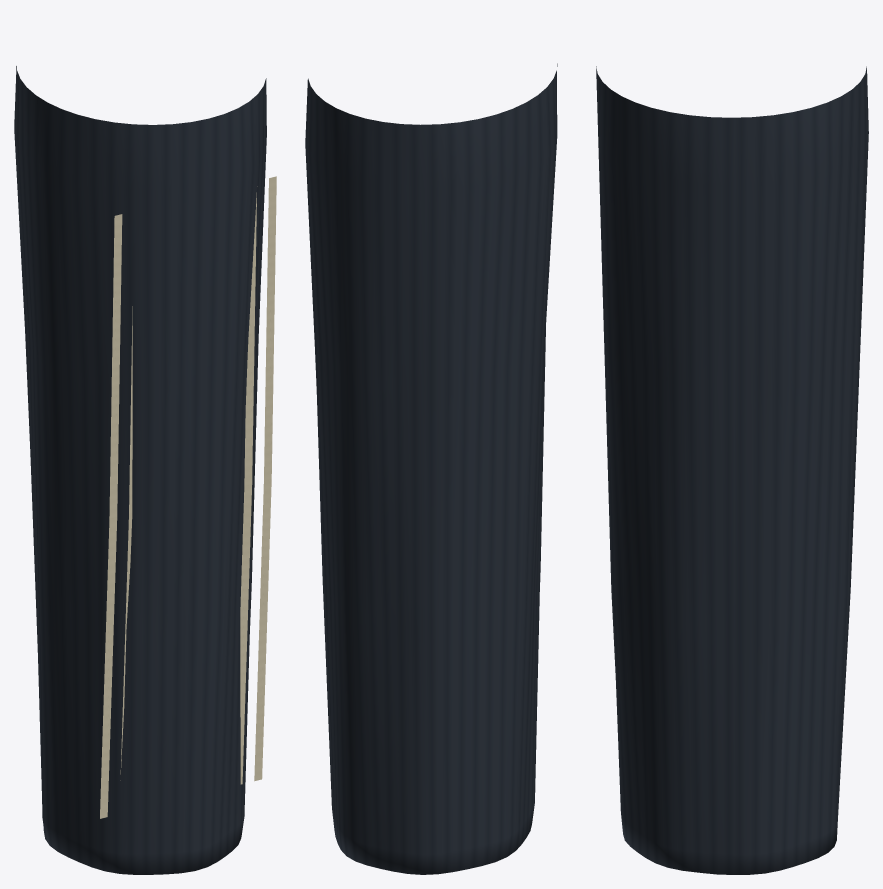
Rendered from reference_track_pants.gltf.
The picture shows the model from 3 angles, left to right: view 1: azimuth 30°, elevation 25°; view 2: azimuth 150°, elevation 25°; view 3: azimuth 270°, elevation 25°; orthographic projection.
Parts seen in each view (by area): view 1: LegL, LegR; view 2: LegL; view 3: LegL.
Boxes of the visible parts, left/top/right/bottom form: LegL: left=14, top=66, right=266, bottom=874; LegR: left=240, top=176, right=276, bottom=784; LegL: left=305, top=63, right=557, bottom=874; LegL: left=596, top=66, right=868, bottom=874.
Bounding box in the file's own units: 0.2182 × 0.749 × 0.2397.
2 materials, 2 textured.
